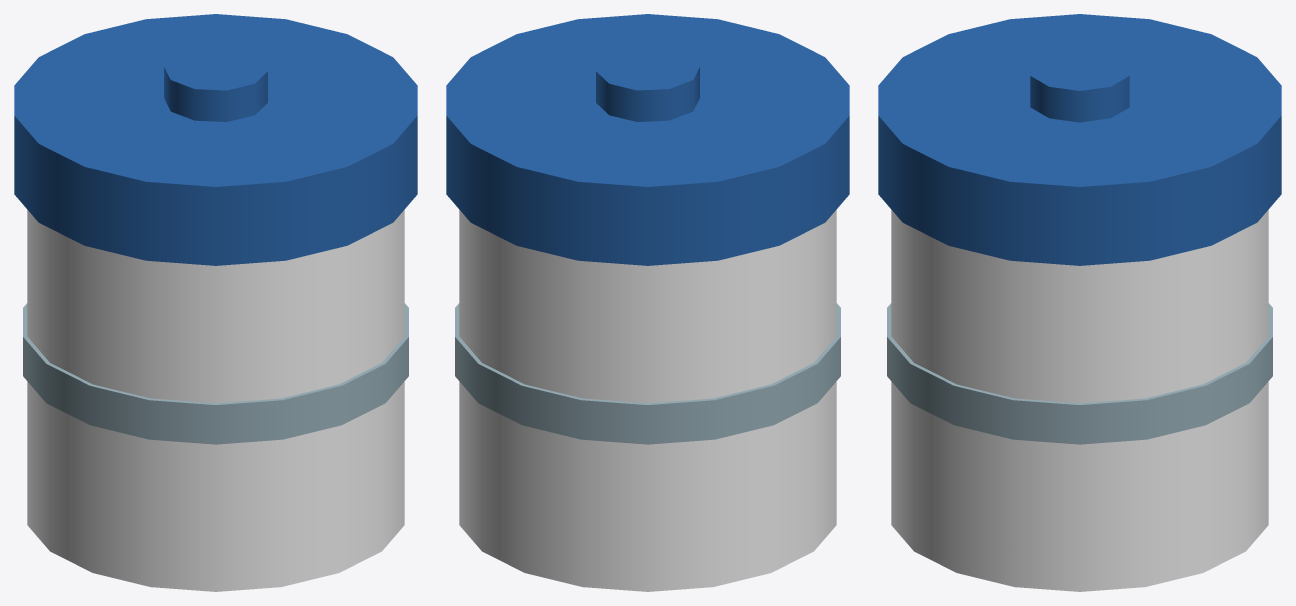
File: salt_jar.glb
3 renders of one model, left to right at view 1: azimuth 30°, elevation 25°; view 2: azimuth 150°, elevation 25°; view 3: azimuth 270°, elevation 25°, orthographic.
Visible parts, largest first — view 1: salt_jar; view 2: salt_jar; view 3: salt_jar.
Part boxes in pixels (x1,y1,x2,y2): salt_jar: [14, 14, 417, 591]; salt_jar: [446, 14, 849, 591]; salt_jar: [878, 14, 1281, 591].
Size of the model in its own units: 0.47 by 0.56 by 0.4629.
